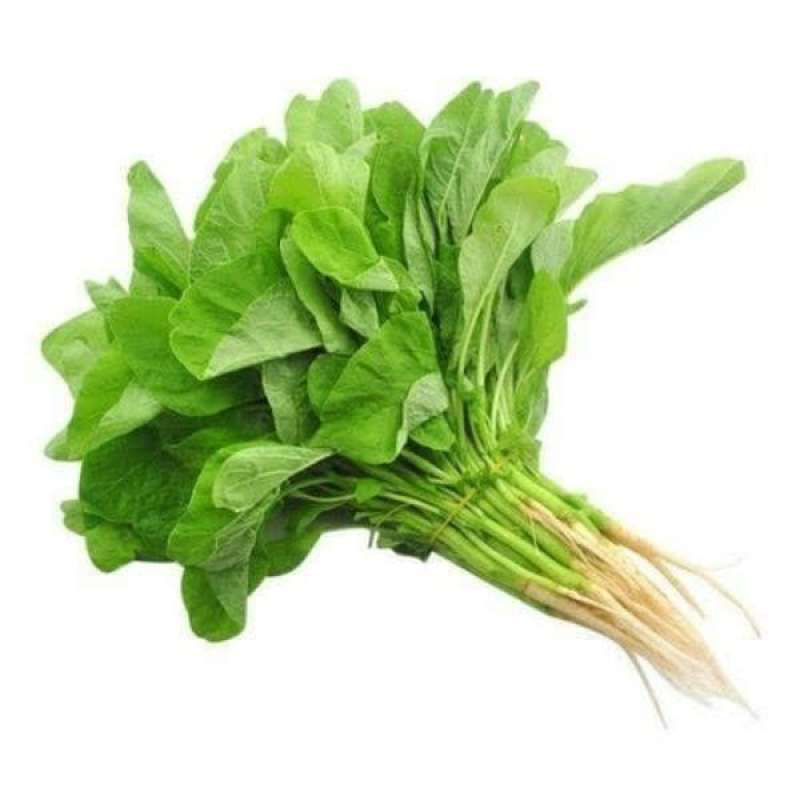Bayam: (28, 40, 781, 777)
